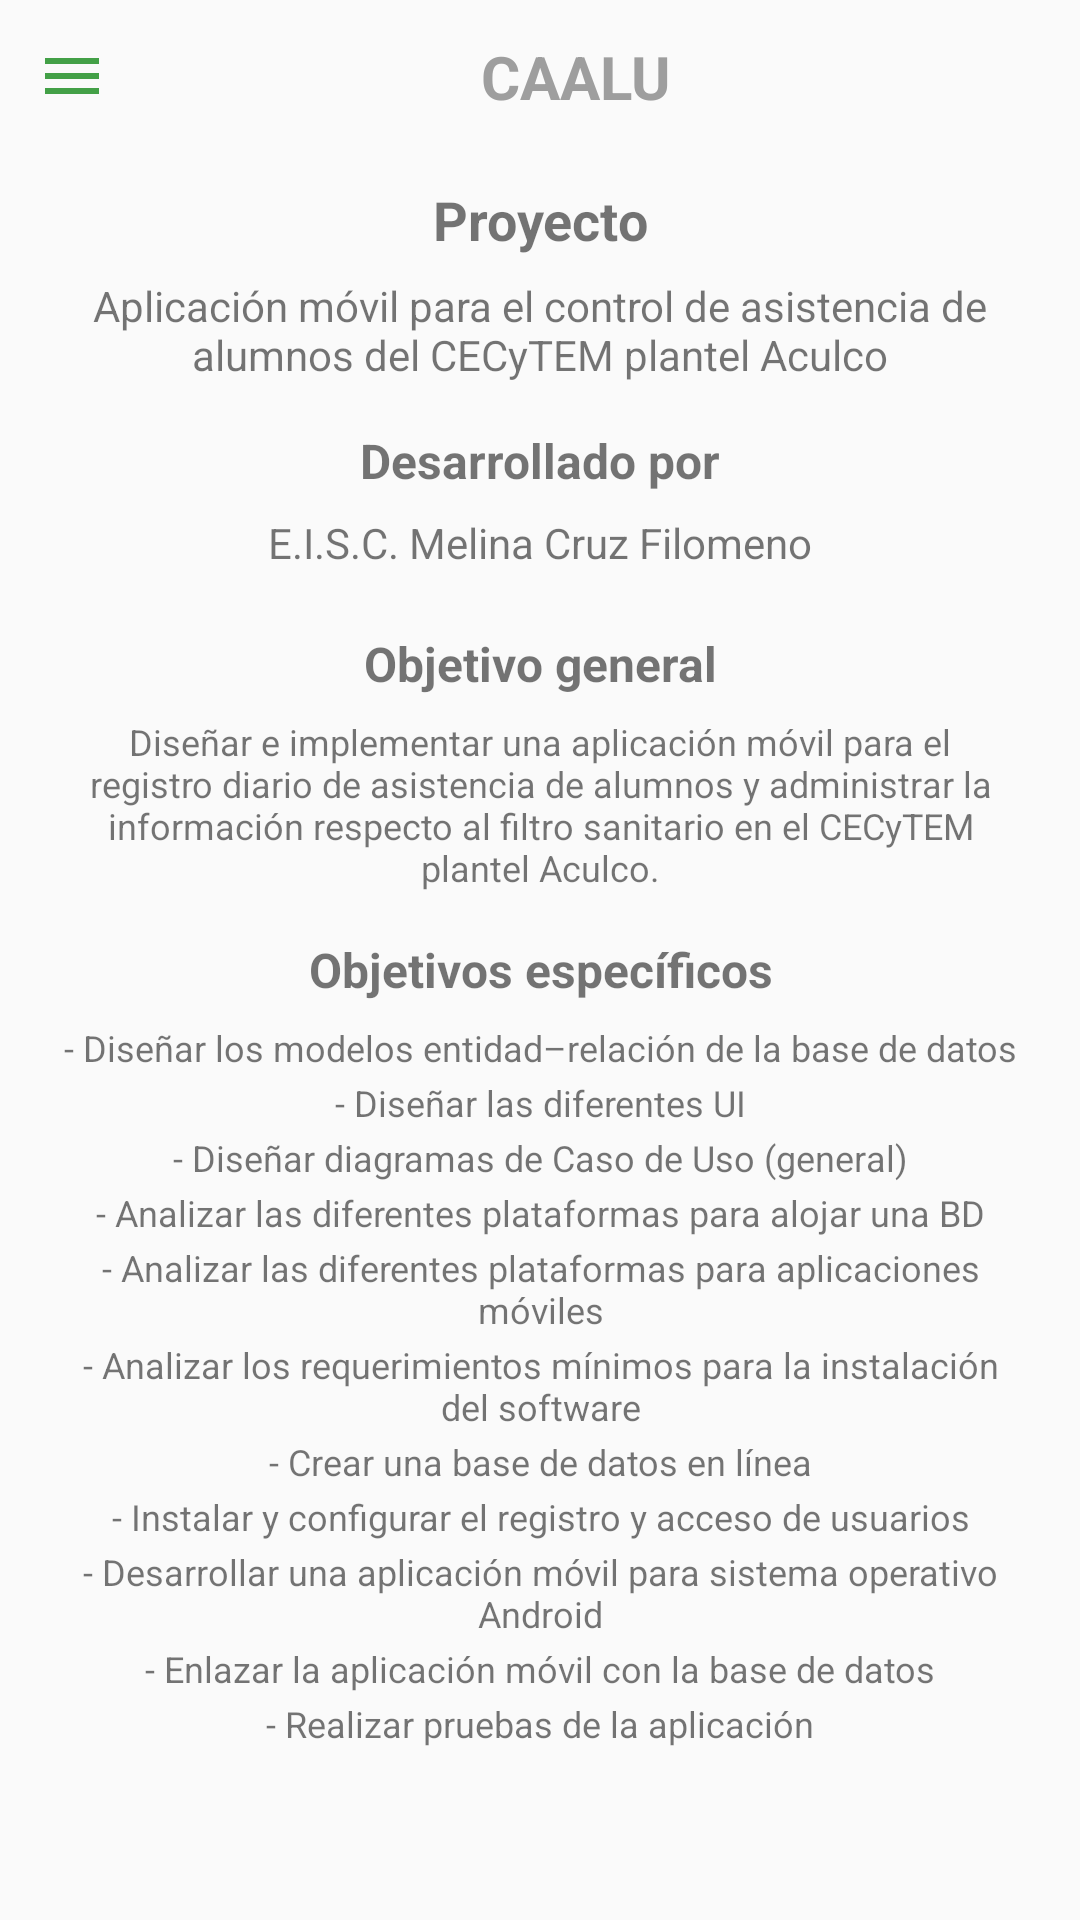

Icon bounding boxes for this 1080 x 1920 phone screenshot, format (x1, y1, x2, y2):
menu: (45, 58, 99, 94)
